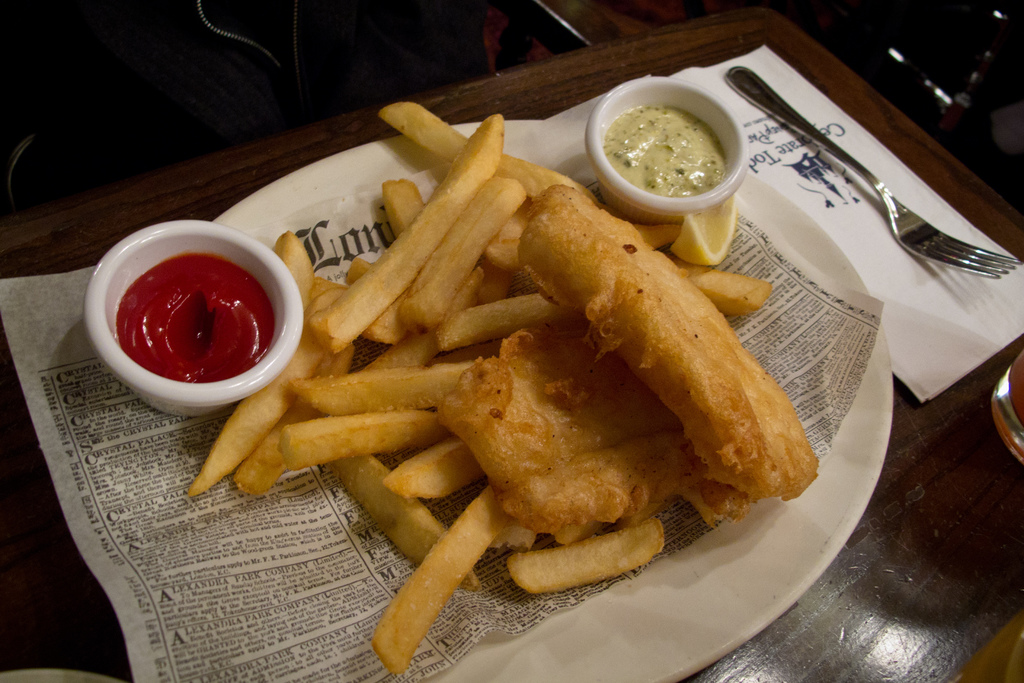French fries: (188, 96, 777, 675)
